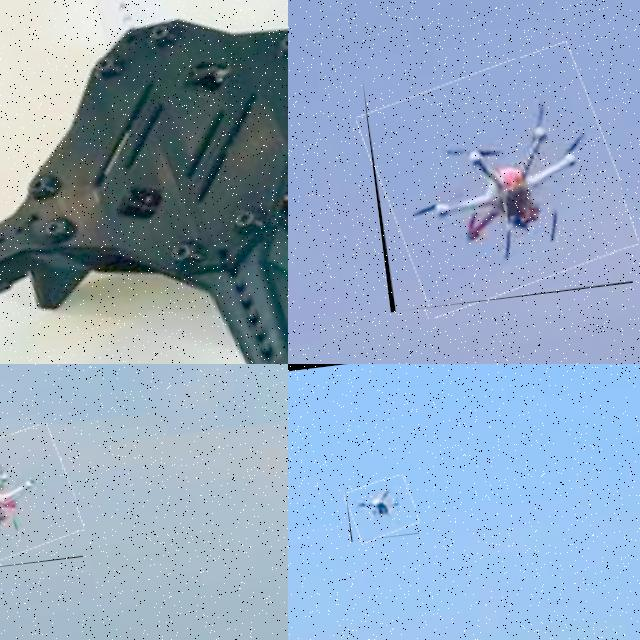drone: (0, 0, 288, 364), (362, 47, 632, 312), (0, 427, 82, 576), (344, 476, 418, 542)
